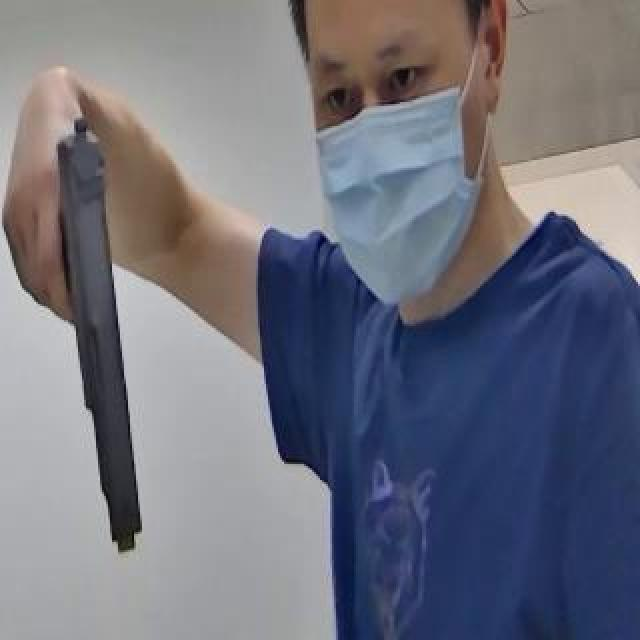Guns: (17, 81, 190, 576)
